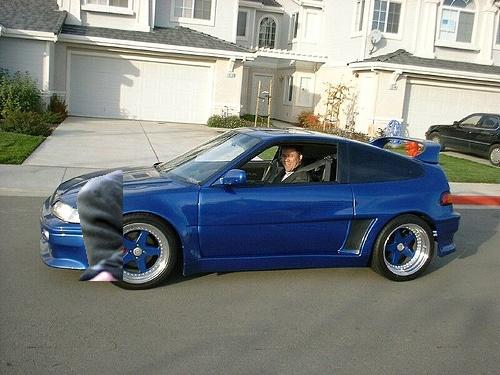tampered: (77, 171, 123, 281)
